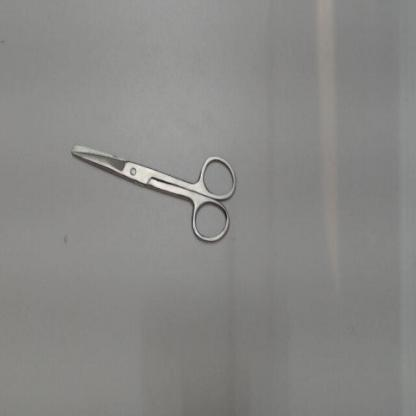Dressing Scissors: (60, 137, 243, 254)
